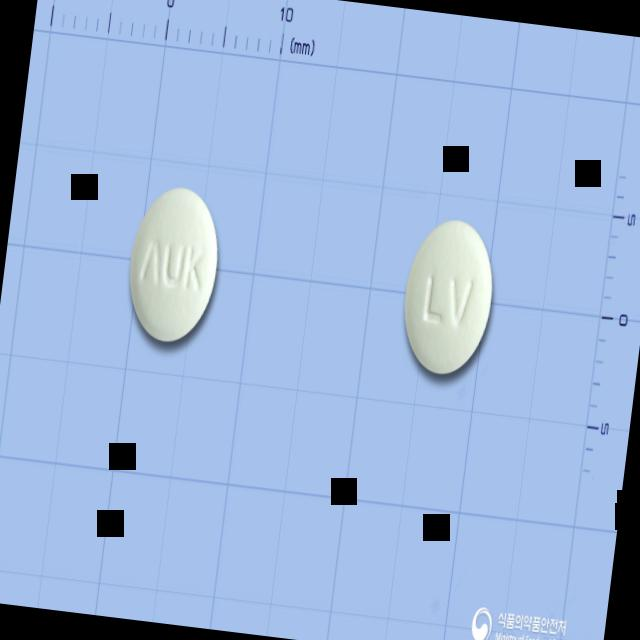Clamacin: (120, 179, 227, 348), (396, 212, 502, 380)
